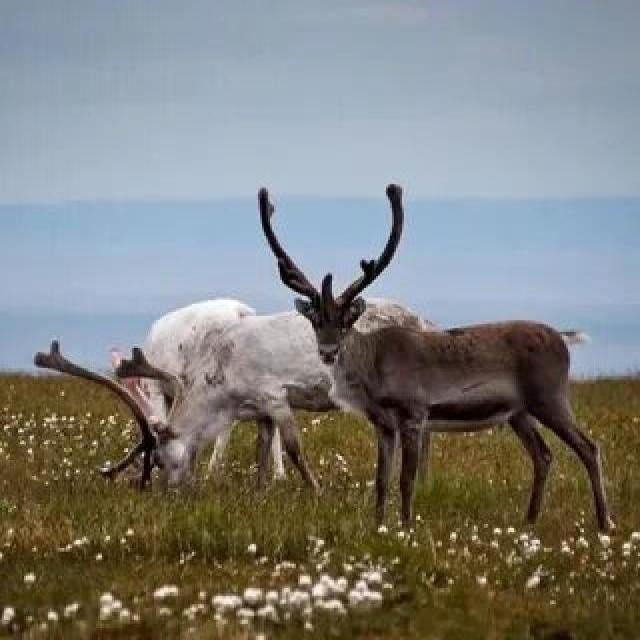deer: (199, 178, 622, 494), (62, 238, 416, 517)
